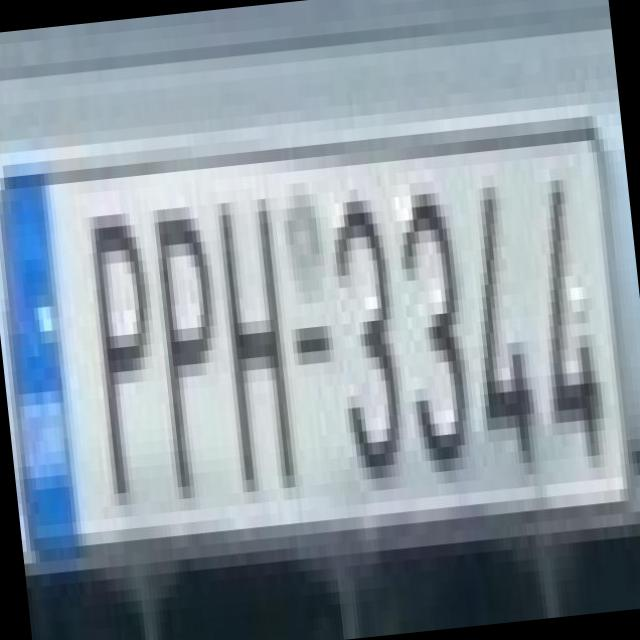3: (311, 175, 406, 470), (383, 167, 474, 462)
4: (516, 153, 608, 460), (451, 160, 538, 454)
H: (197, 162, 302, 482)
P: (70, 188, 162, 495), (138, 182, 225, 488)
